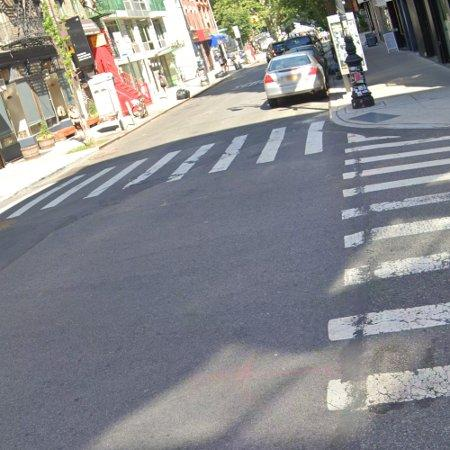crosswalks: (5, 120, 327, 219)
